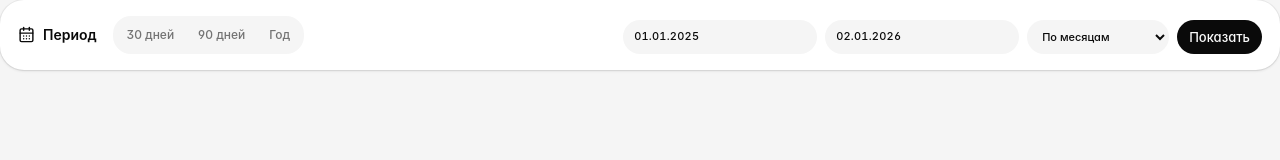
Test: StatisticsPeriodFilter › does not apply an invalid custom period
Click the button "Показать" at (1220, 37), box [1177,20,1262,54]
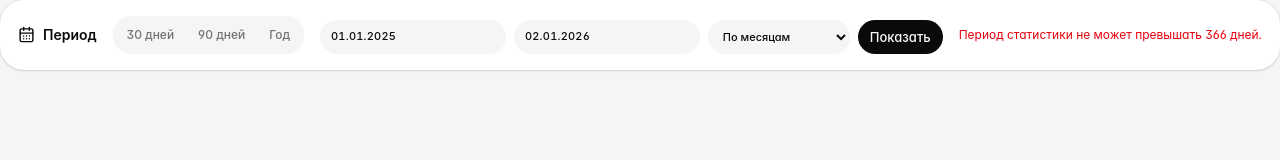
Now the text "Период статистики не может превышать 366 дней." is shown, box [959,26,1262,44]
